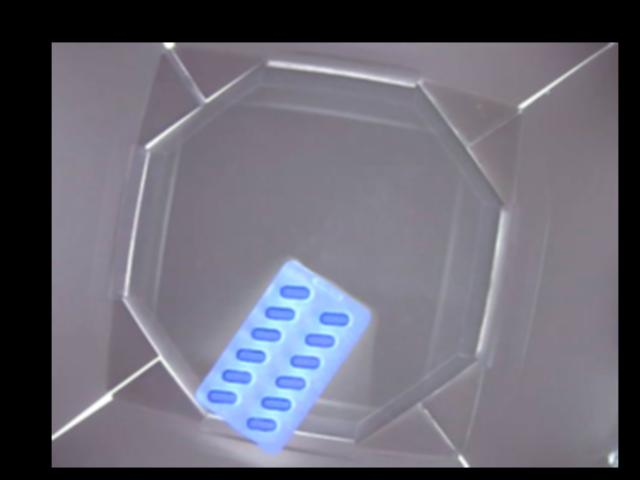Medicine: (196, 255, 370, 455)
